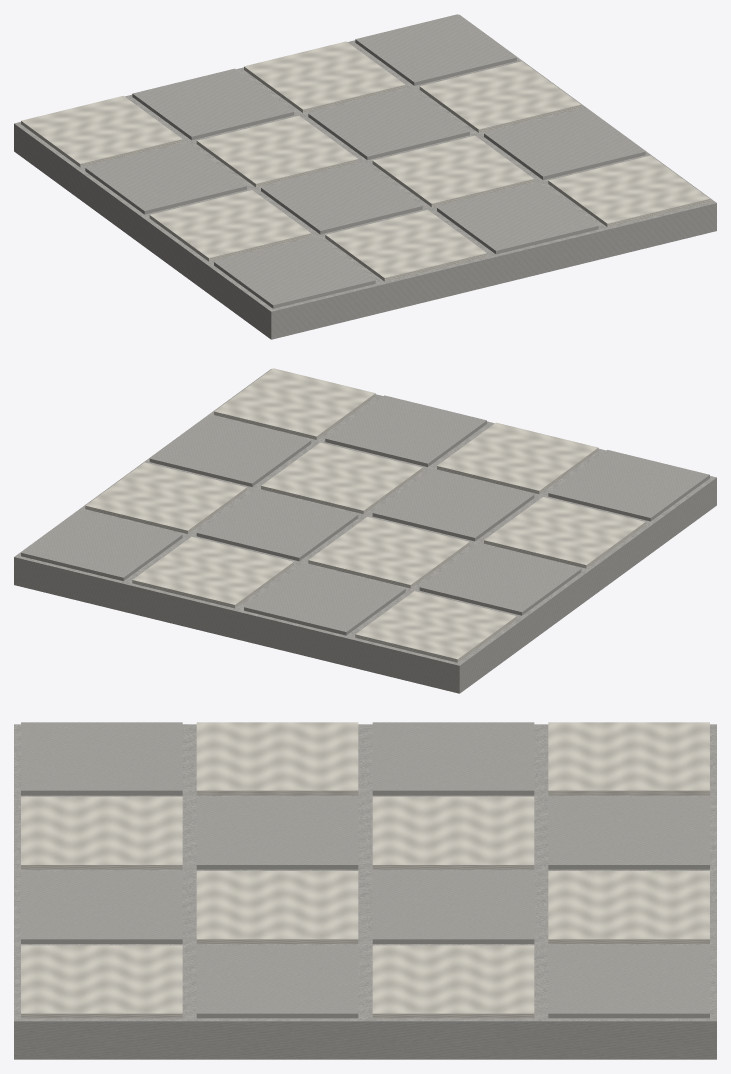
The model's file is indian-bazaar-street-and-temple-stone-paving-module-c82492d8__36524.glb.
3 renders of one model, top to bottom at view 1: azimuth 30°, elevation 25°; view 2: azimuth 150°, elevation 25°; view 3: azimuth 270°, elevation 25°, orthographic. The views are drawn at different scales.
Visible parts, largest first — view 1: stone-paving-module-stone, stone-paving-module-plaster; view 2: stone-paving-module-stone, stone-paving-module-plaster; view 3: stone-paving-module-stone, stone-paving-module-plaster.
Part boxes in pixels (x1,y1,x2,y2): stone-paving-module-stone: (14, 14, 716, 339); stone-paving-module-plaster: (21, 41, 709, 281); stone-paving-module-stone: (14, 369, 716, 693); stone-paving-module-plaster: (85, 368, 645, 662); stone-paving-module-stone: (14, 722, 716, 1059); stone-paving-module-plaster: (21, 722, 709, 1018).
Size of the model in its own units: 4 by 0.2701 by 4.
Materials: 2 (2 with a texture image).
